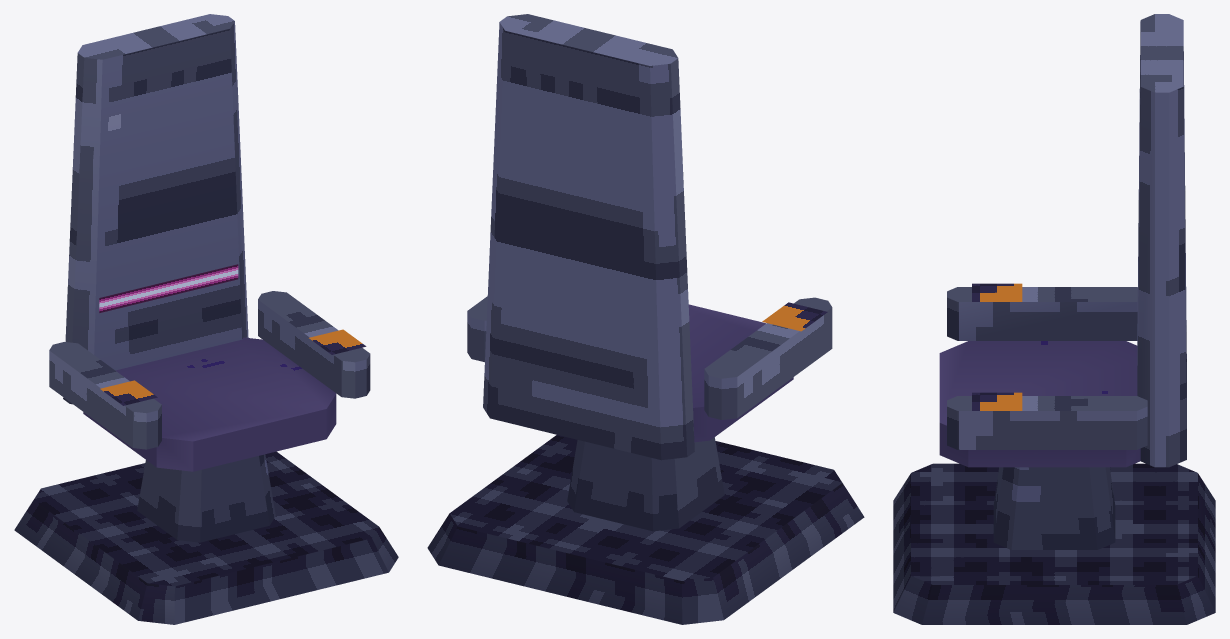
The model's file is cyroom.chair__captive.glb.
The picture shows the model from 3 angles, left to right: view 1: azimuth 30°, elevation 25°; view 2: azimuth 150°, elevation 25°; view 3: azimuth 270°, elevation 25°; orthographic projection. The views are drawn at different scales.
Parts seen in each view (by area): view 1: kit_body, kit_card_details; view 2: kit_body, kit_card_details; view 3: kit_body, kit_card_details.
Part boxes in pixels (left/top/right/bottom): kit_body: left=14, top=14, right=398, bottom=624; kit_card_details: left=99, top=264, right=366, bottom=405; kit_body: left=427, top=14, right=864, bottom=624; kit_card_details: left=762, top=302, right=827, bottom=331; kit_body: left=893, top=14, right=1215, bottom=624; kit_card_details: left=972, top=283, right=1022, bottom=410.
Bounding box in the file's own units: 0.9 × 1.55 × 0.9.
Materials: 6 (6 with a texture image).
